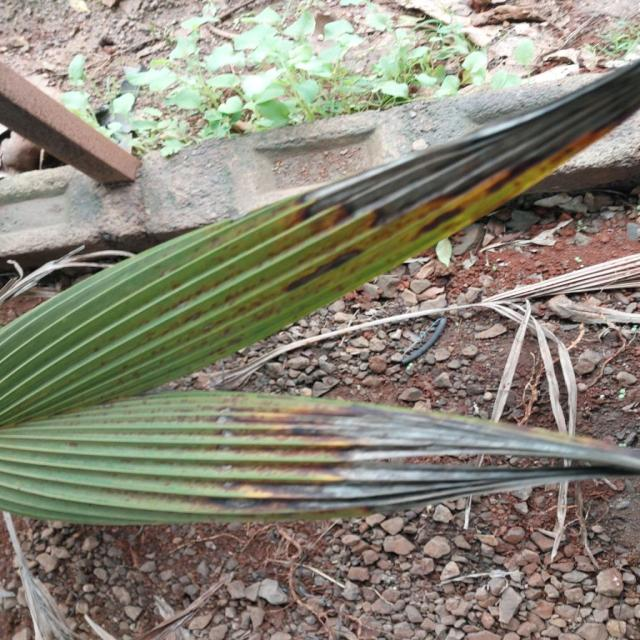gray leaf spot: (0, 63, 640, 529)
